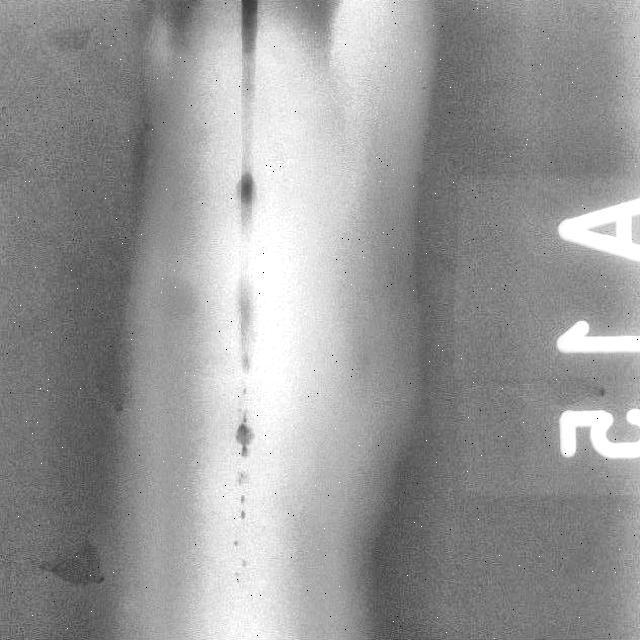LoP-LoF: (210, 1, 286, 606)
